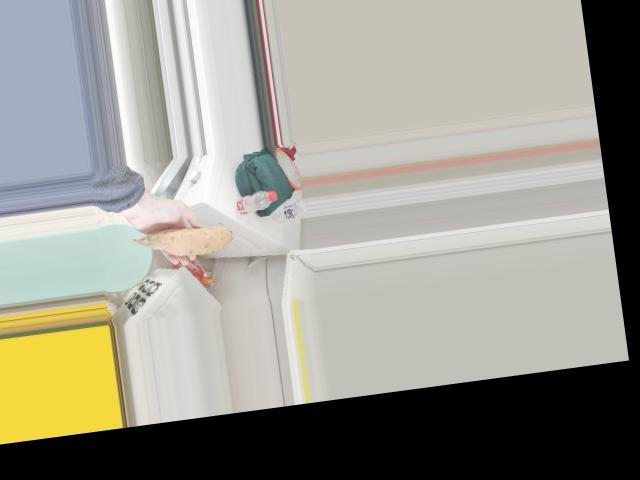sweet_potato: (136, 219, 235, 262)
